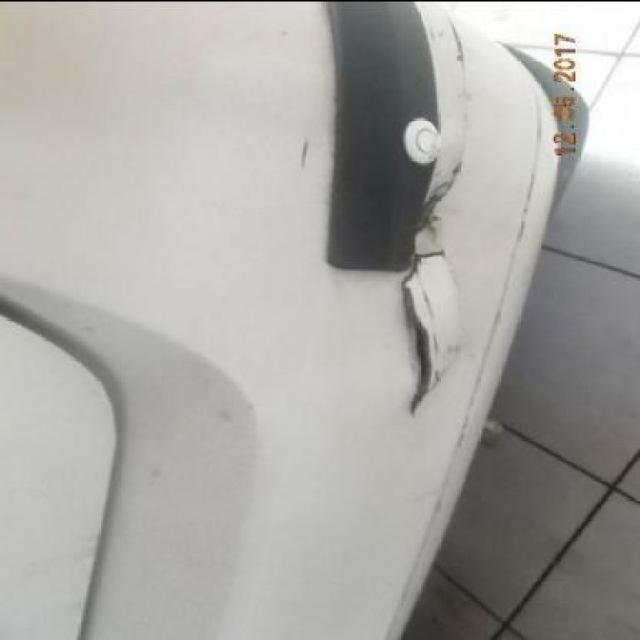damage: (388, 4, 474, 415)
